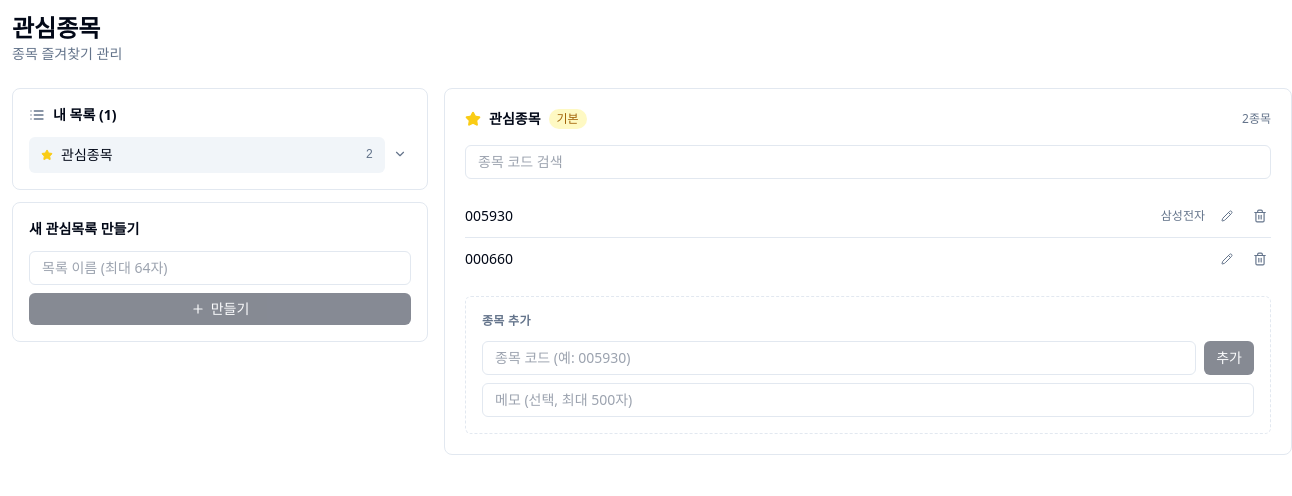
Scenario: WatchlistPage › shows 409 error when adding a duplicate symbol
Check: the element with test id "watchlist-add-item-form" is shown, box x1=465 y1=296 x2=1271 y2=434
Type "005930" into the field with test id "watchlist-add-symbol" at (839, 358), box x1=482 y1=341 x2=1196 y2=375
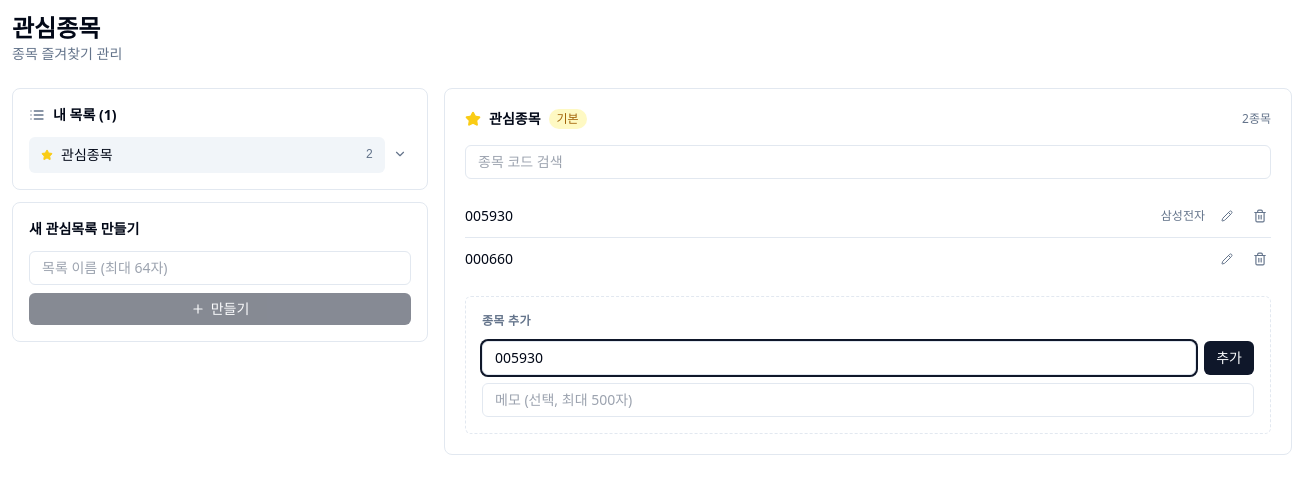
Click the button with test id "watchlist-add-submit" at (1229, 358), box x1=1204 y1=341 x2=1254 y2=375
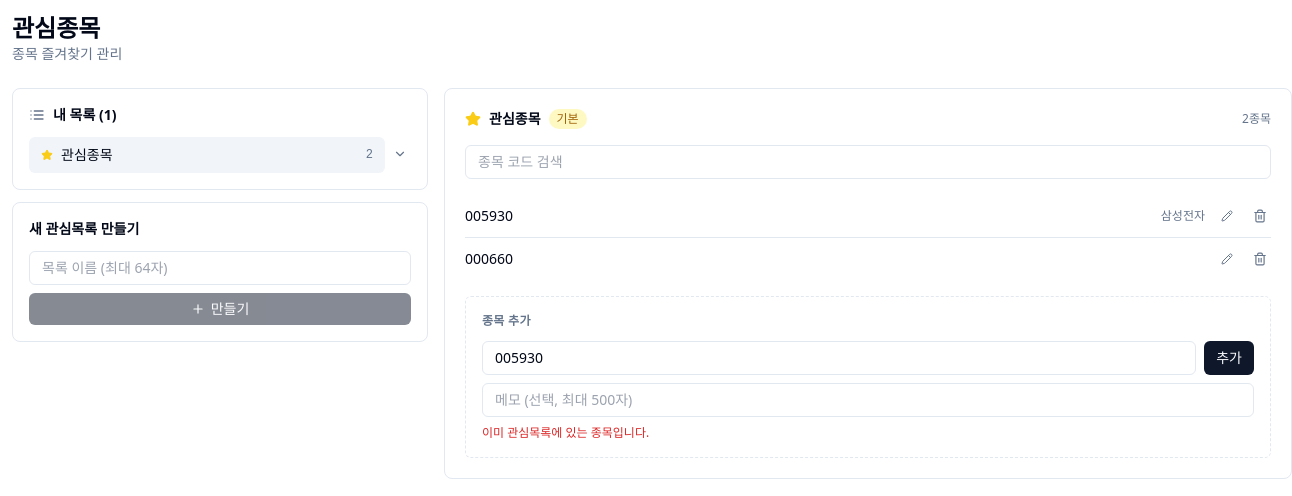
Check: the message with test id "watchlist-add-error" reads "이미 관심목록에 있는 종목입니다.", box x1=482 y1=424 x2=649 y2=441
